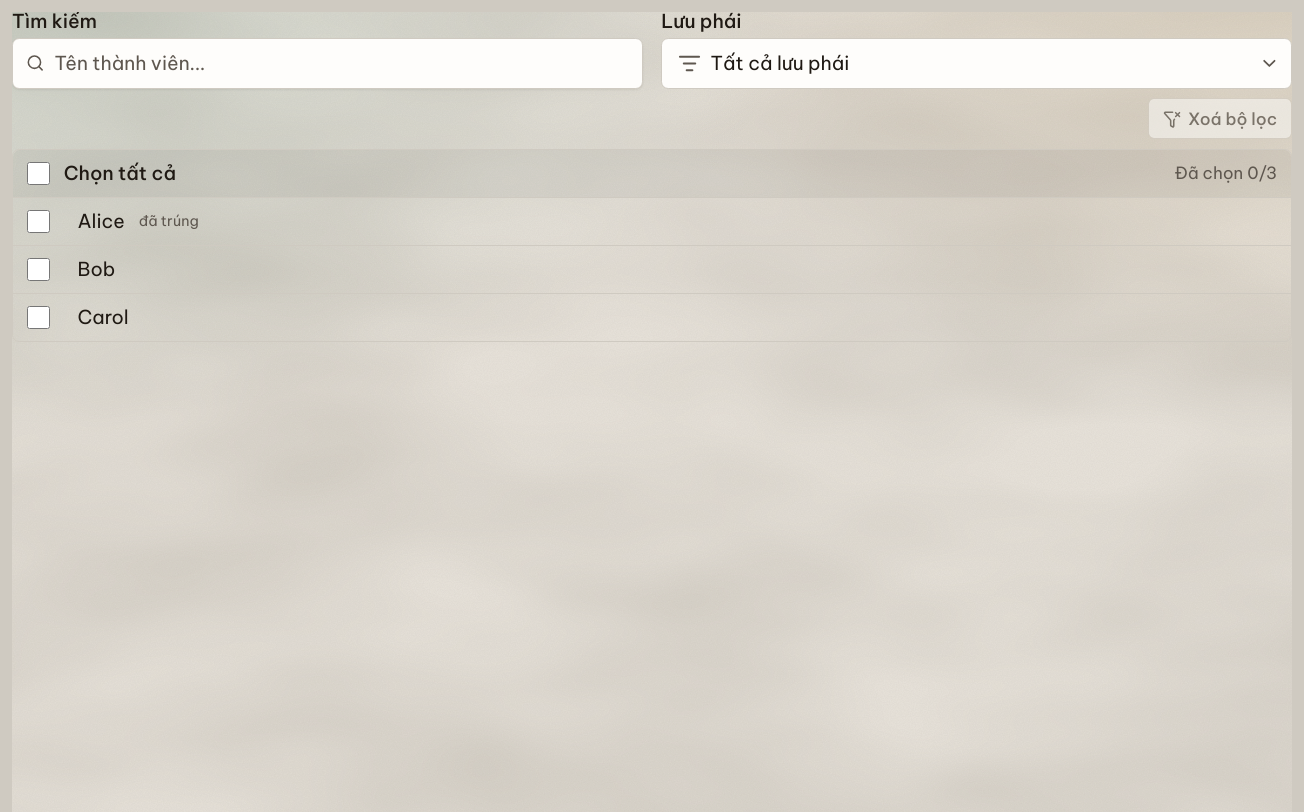
Test: RosterChecklist › filters by the search text
Type "bo" into the field labelled "Tìm kiếm".
click(327, 63); type("bo")  # box [12,38,643,89]
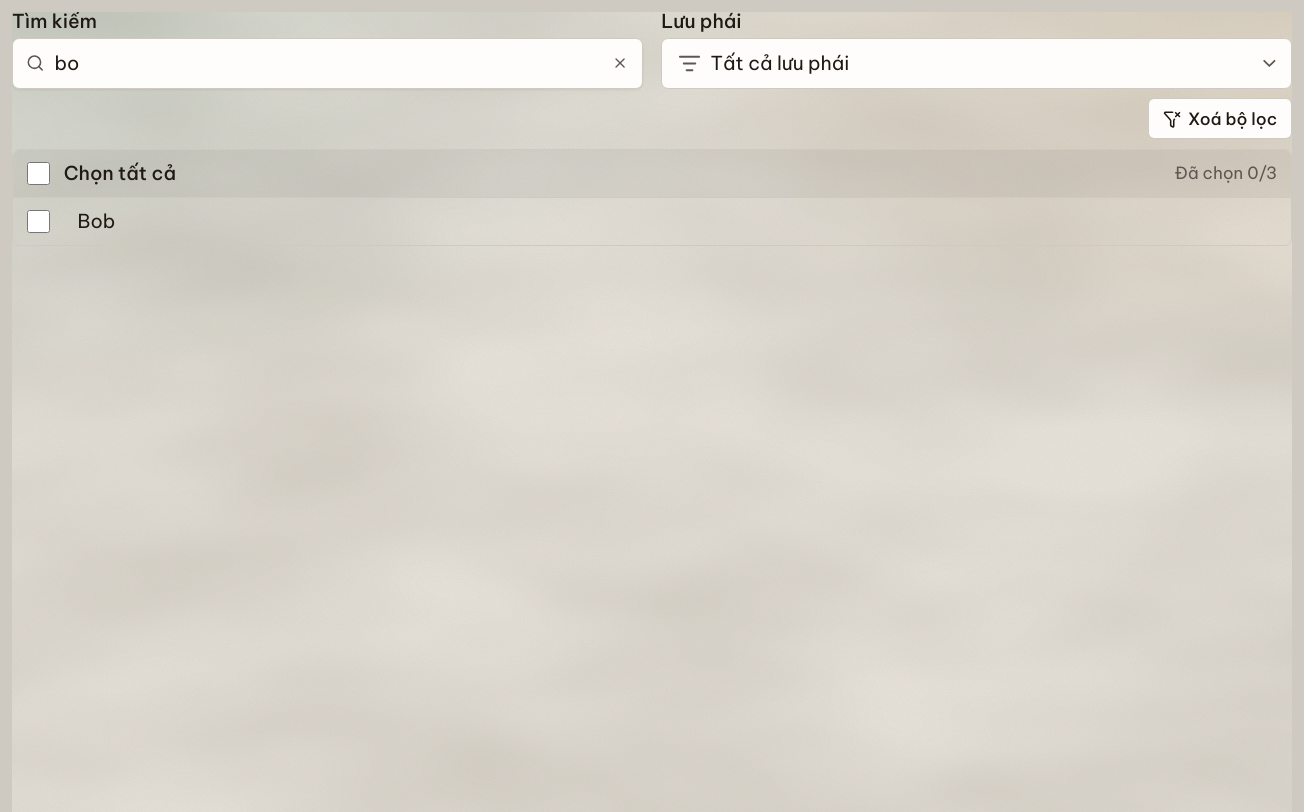
expect the text "Bob" is shown: met, box [78,207,115,236]
expect the text "Alice" is gone: met
